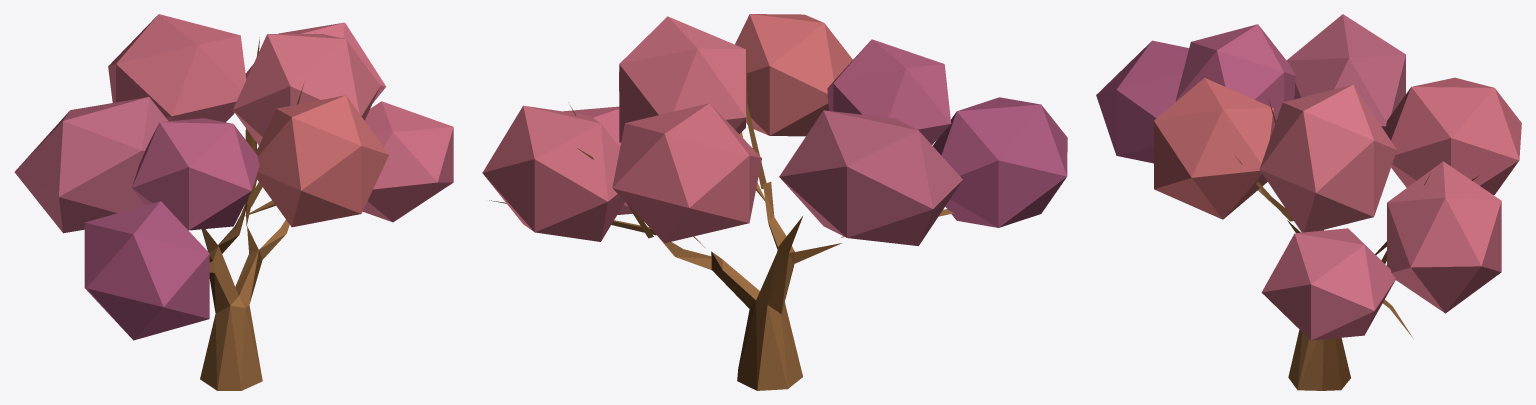
Rendered from jacaranda_var_autumn_far.glb.
3 views of the same model, side by side, from view 1: azimuth 30°, elevation 25°; view 2: azimuth 150°, elevation 25°; view 3: azimuth 270°, elevation 25° (orthographic). The views are drawn at different scales.
Parts seen in each view (by area): view 1: jacaranda_var_autumn_far; view 2: jacaranda_var_autumn_far; view 3: jacaranda_var_autumn_far.
Boxes of the visible parts, x1,y1,x2,y2 form: jacaranda_var_autumn_far: (14,14,453,390); jacaranda_var_autumn_far: (482,14,1067,390); jacaranda_var_autumn_far: (1096,14,1521,390).
Bounding box in the file's own units: 8.89 × 6.1 × 7.32.
